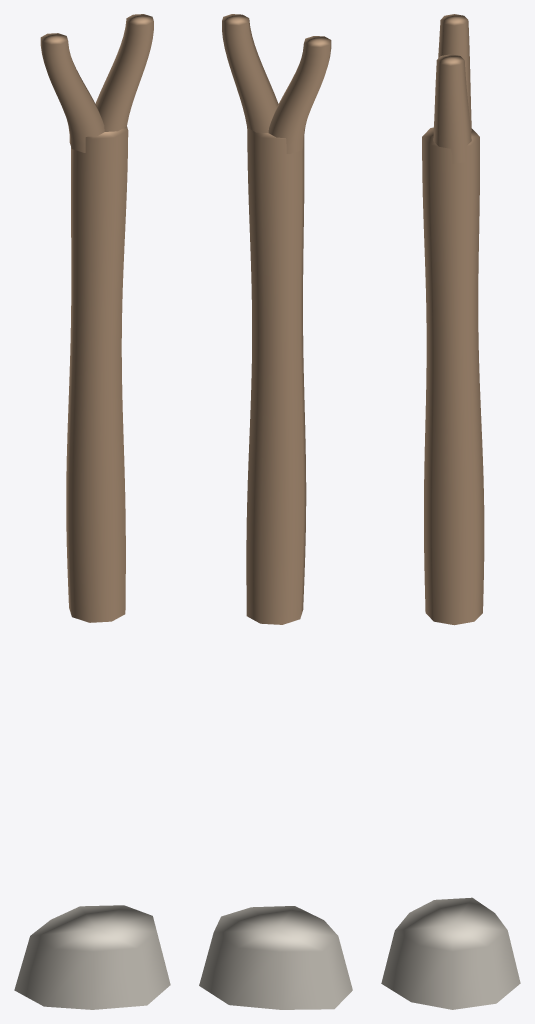
Rendered from bagana-f3-3x12x3-v2.glb.
The picture shows the model from 3 angles, left to right: view 1: azimuth 30°, elevation 25°; view 2: azimuth 150°, elevation 25°; view 3: azimuth 270°, elevation 25°; orthographic projection.
Visible parts, largest first — view 1: bagana_wood, bagana_stone; view 2: bagana_wood, bagana_stone; view 3: bagana_wood, bagana_stone.
Part boxes in pixels (box(x1,y1,x2,y2)): bagana_wood: box(40, 14, 153, 622); bagana_stone: box(14, 905, 170, 1009); bagana_wood: box(222, 14, 331, 624); bagana_stone: box(199, 906, 352, 1009); bagana_wood: box(422, 14, 484, 625); bagana_stone: box(381, 897, 520, 1009).
Size of the model in its own units: 0.6865 by 4.5 by 0.6067.
